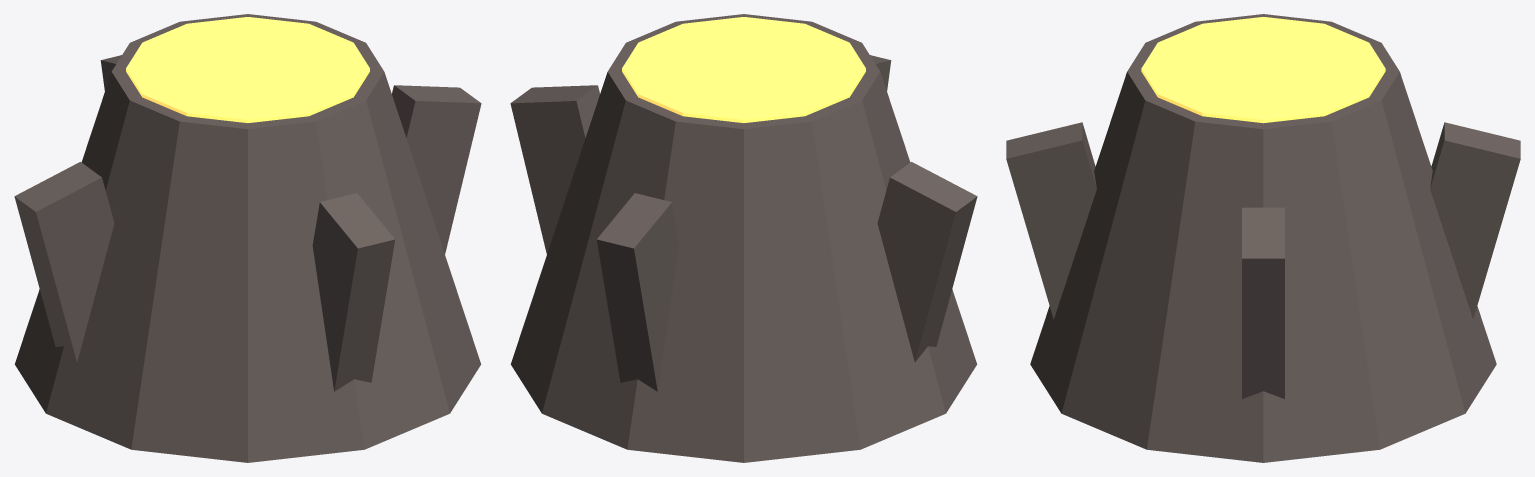
File: structure_rubra_caldera_vent.glb
3 renders of one model, left to right at view 1: azimuth 30°, elevation 25°; view 2: azimuth 150°, elevation 25°; view 3: azimuth 270°, elevation 25°, orthographic.
Parts seen in each view (by area): view 1: Caldera_Vent_Cone, Crater_Magma_Pool, Caldera_Rib_3, Caldera_Rib_4, Caldera_Rib_1; view 2: Caldera_Vent_Cone, Crater_Magma_Pool, Caldera_Rib_3, Caldera_Rib_2, Caldera_Rib_1; view 3: Caldera_Vent_Cone, Crater_Magma_Pool, Caldera_Rib_2, Caldera_Rib_4, Caldera_Rib_1.
Boxes of the visible parts, x1,y1,x2,y2 form: Caldera_Vent_Cone: [14, 14, 481, 462]; Crater_Magma_Pool: [126, 17, 369, 122]; Caldera_Rib_3: [14, 162, 114, 362]; Caldera_Rib_4: [312, 193, 395, 391]; Caldera_Rib_1: [392, 85, 481, 253]; Caldera_Vent_Cone: [510, 14, 977, 462]; Crater_Magma_Pool: [622, 17, 865, 122]; Caldera_Rib_3: [877, 162, 977, 362]; Caldera_Rib_2: [596, 193, 679, 391]; Caldera_Rib_1: [510, 85, 599, 253]; Caldera_Vent_Cone: [1030, 14, 1496, 462]; Crater_Magma_Pool: [1141, 17, 1385, 123]; Caldera_Rib_2: [1430, 122, 1520, 319]; Caldera_Rib_4: [1006, 122, 1096, 319]; Caldera_Rib_1: [1242, 207, 1284, 398].
Bounding box in the file's own units: 14.34 × 9.27 × 14.34.
